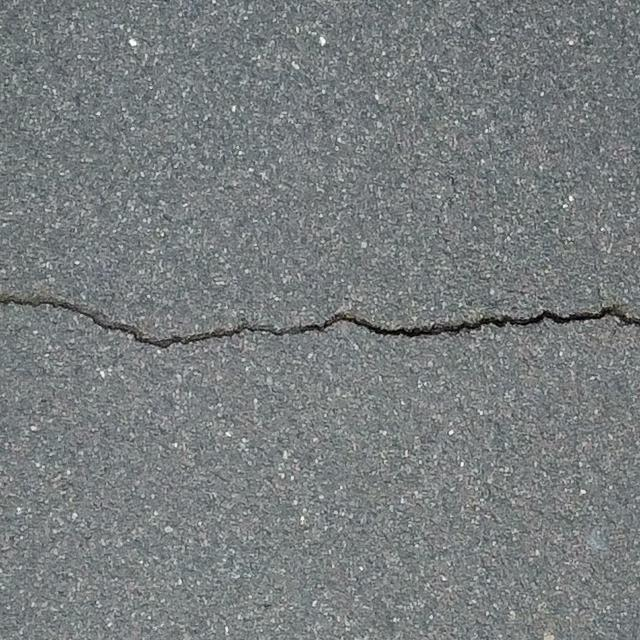TransverseCrack: (1, 292, 640, 348)
